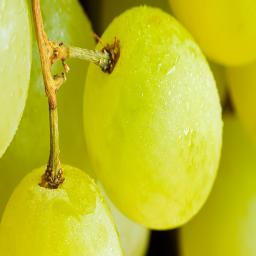kiwi: (74, 3, 228, 242), (5, 147, 135, 256), (1, 0, 39, 165)
